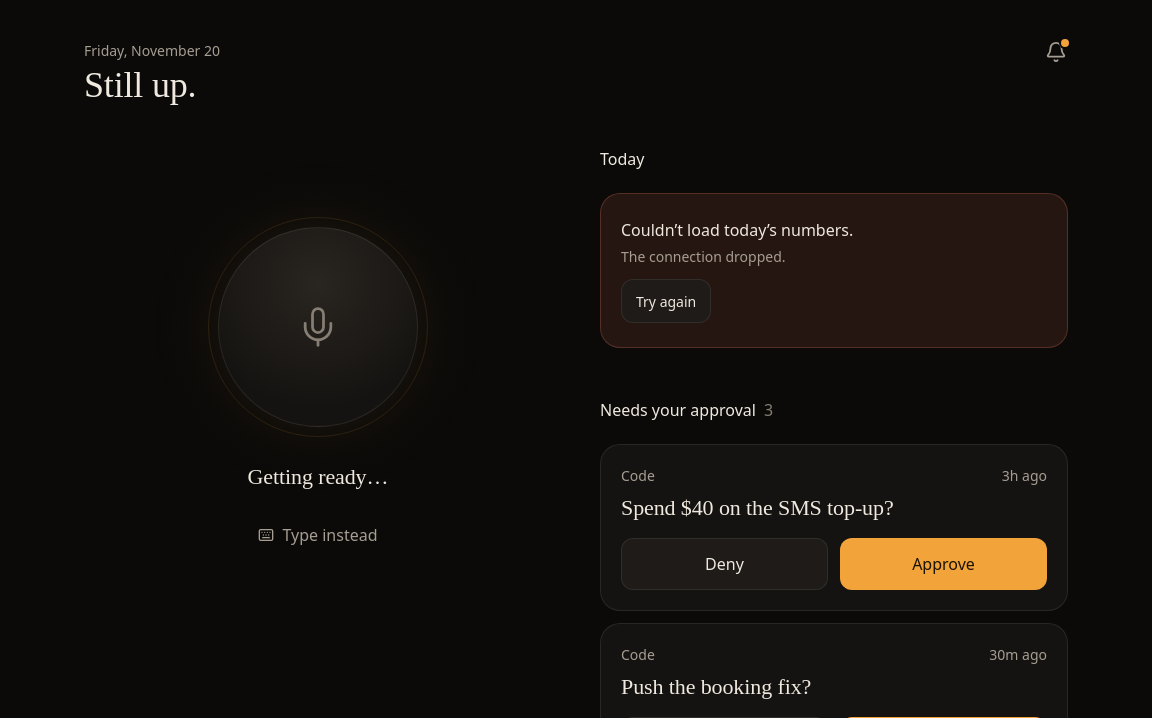
Today’s brief › says what went wrong and loads again on retry
The image size is (1152, 718).
expect the message shows "Couldn’t load today’s numbers.": met, box [621,219,853,241]
expect the message shows "The connection dropped.": met, box [621,247,786,266]
Click the button "Try again" at (666, 301), box [621,279,711,323]
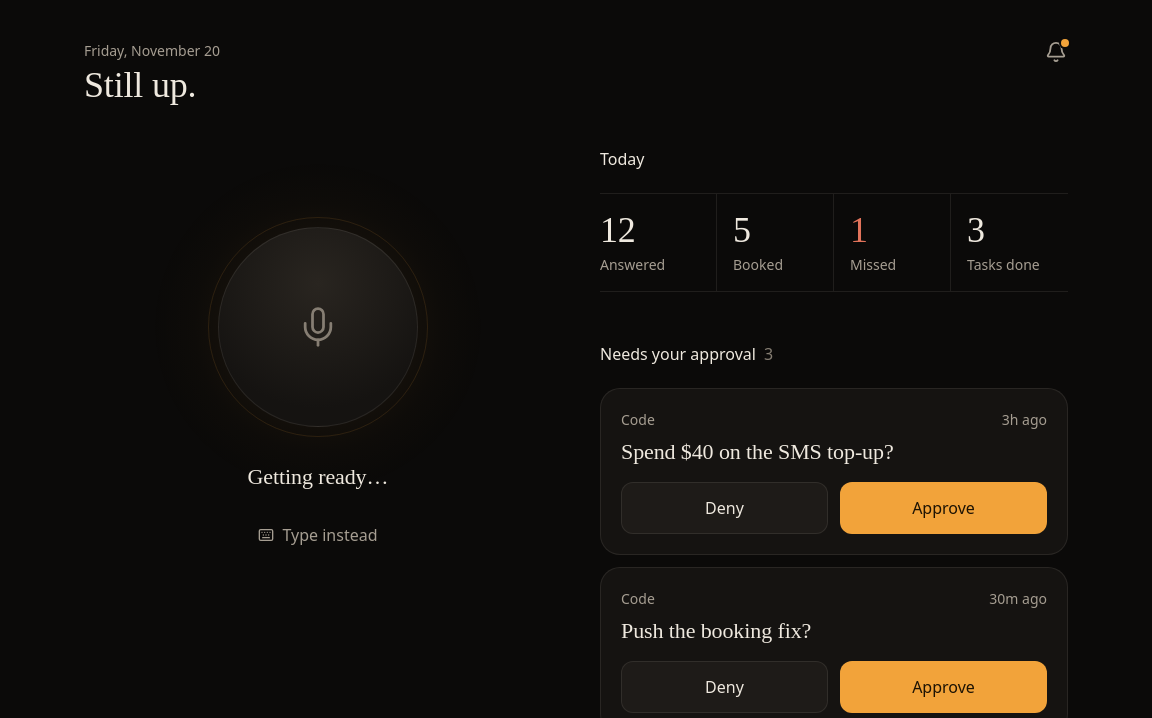
expect the link with aria-label "12 calls answered" is shown: met, box [600,210,665,274]
expect the message "Couldn’t load today’s numbers. The connection dropped. Try again" is gone: met
